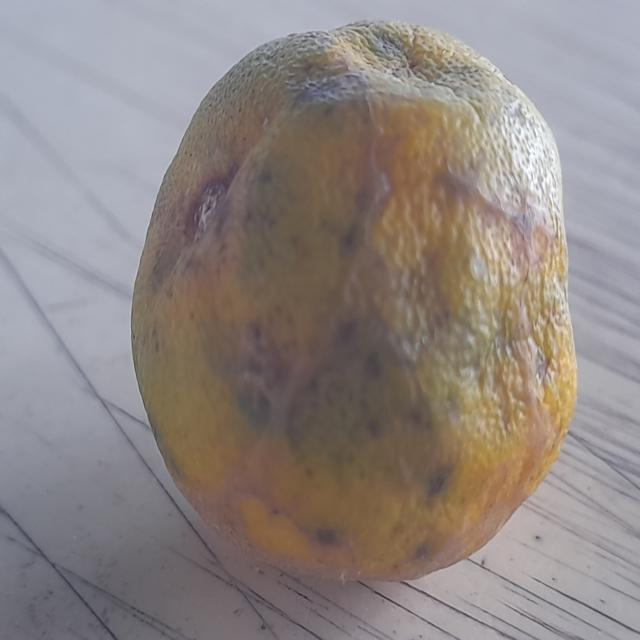black spot: (93, 17, 579, 608)
